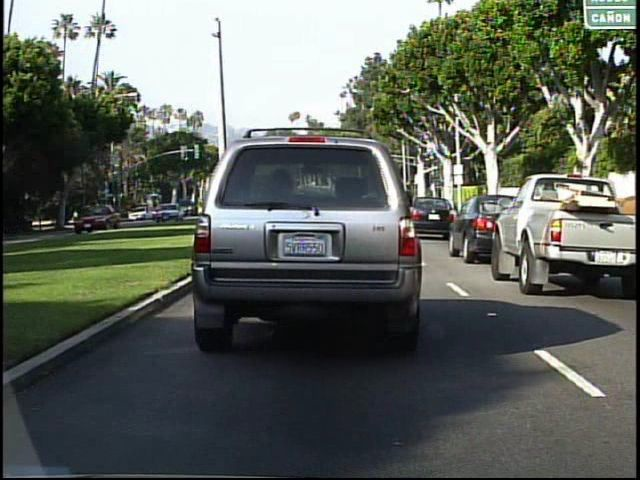person: (72, 207, 80, 226)
